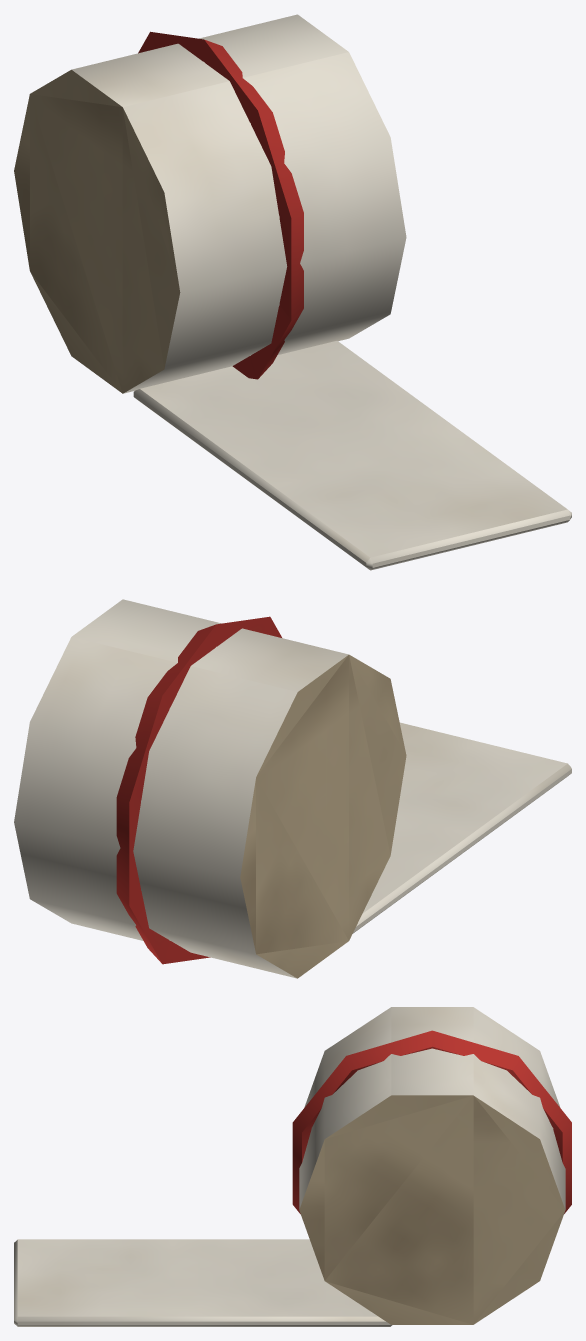
Rendered from SM_Pickup_Bandage.fbx.
The picture shows the model from 3 angles, top to bottom: view 1: azimuth 30°, elevation 25°; view 2: azimuth 150°, elevation 25°; view 3: azimuth 270°, elevation 25°; orthographic projection. The views are drawn at different scales.
Parts seen in each view (by area): view 1: SM_Pickup_Bandage; view 2: SM_Pickup_Bandage; view 3: SM_Pickup_Bandage.
Boxes of the visible parts, x1=… form: SM_Pickup_Bandage: x1=14, y1=14, x2=571, y2=570; SM_Pickup_Bandage: x1=14, y1=599, x2=571, y2=978; SM_Pickup_Bandage: x1=14, y1=1007, x2=571, y2=1326.
Bounding box in the file's own units: 0.55 × 0.772 × 1.47.
Materials: 1 (1 with a texture image).
